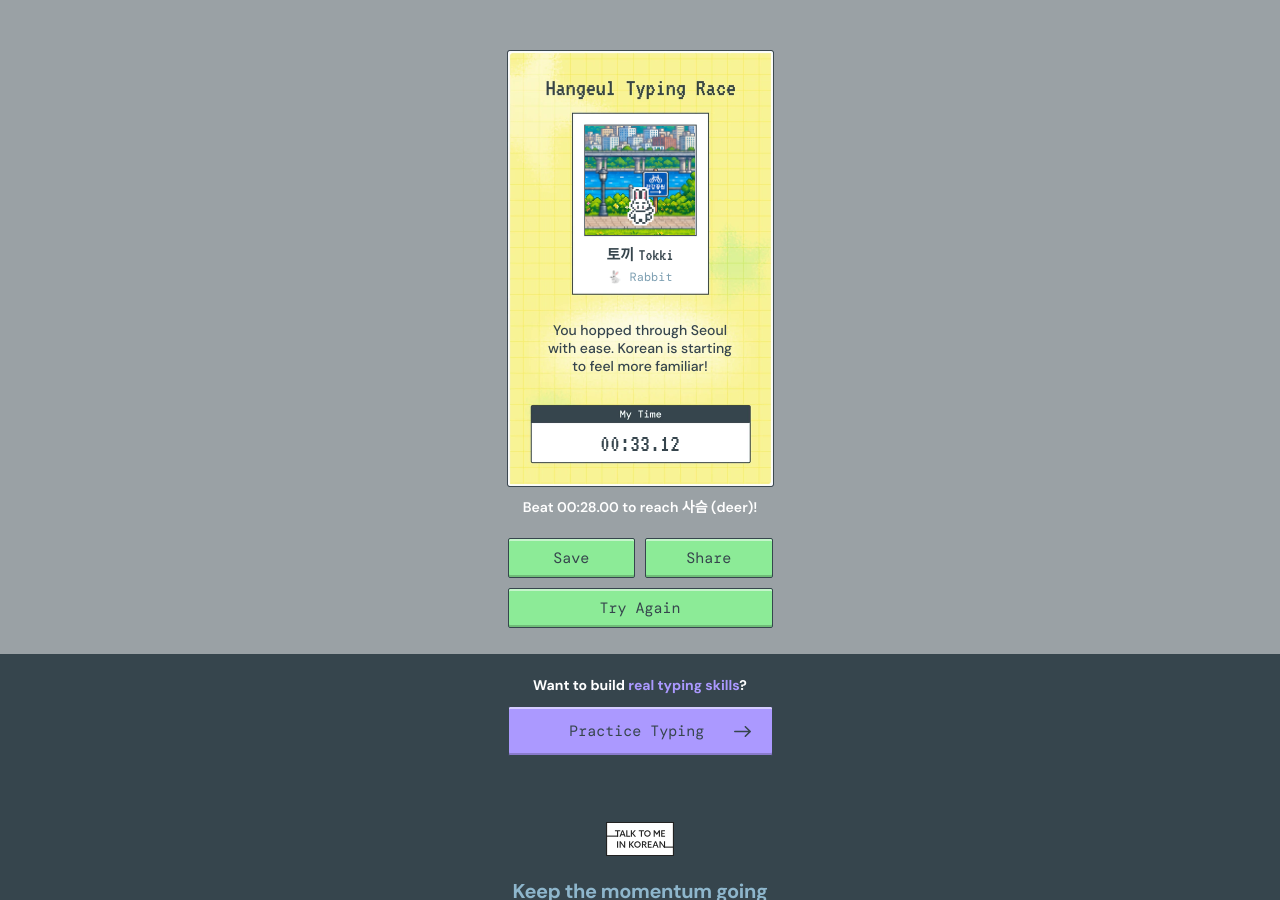
ResultScreen › Share 는 카드 이미지와 무관하게 링크 팝업을 띄운다
The image size is (1280, 900).
Step 1. Click the button with test id "result-share" → click(709, 558), box [645,538,772,578]
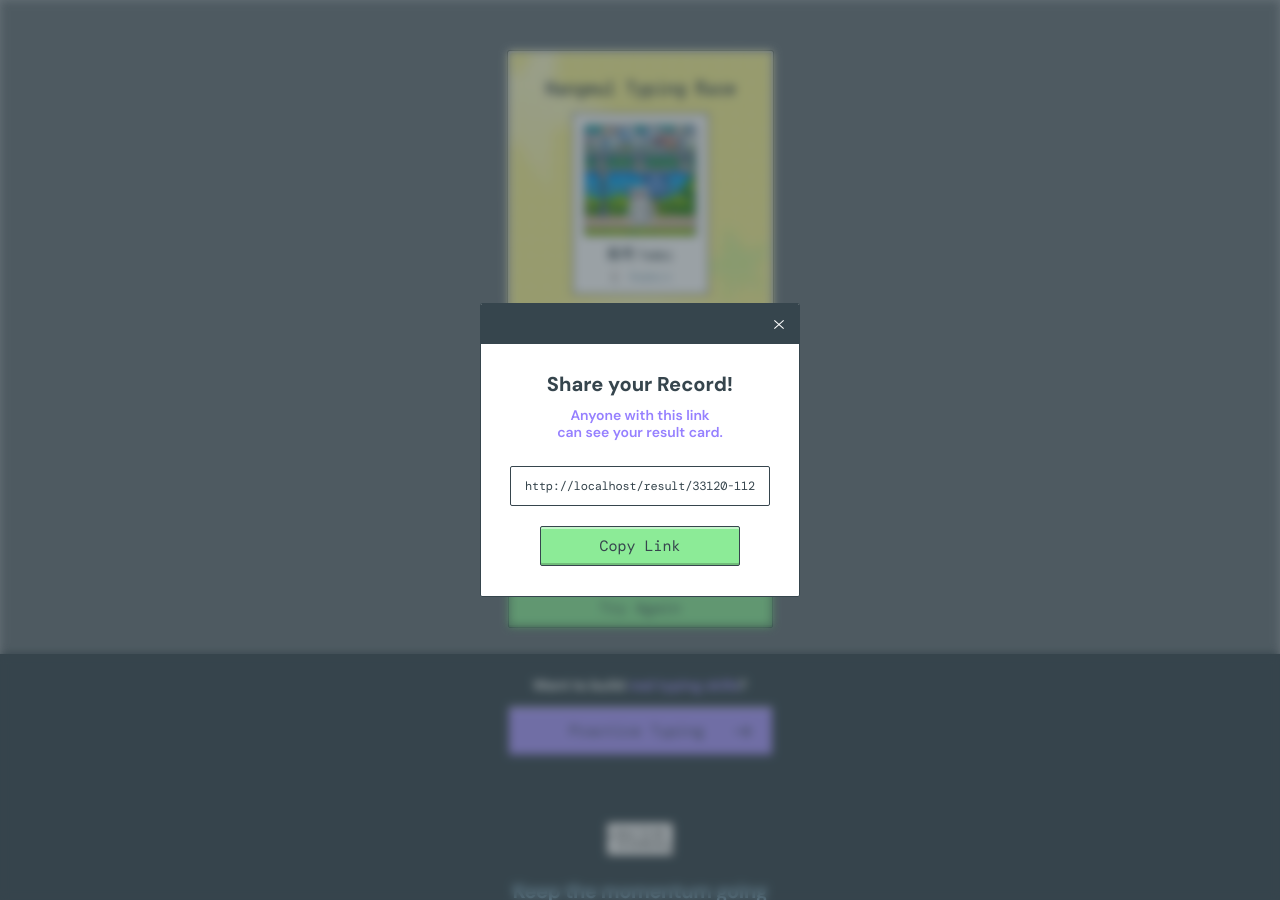
Result: the element with test id "share-popup" is shown
